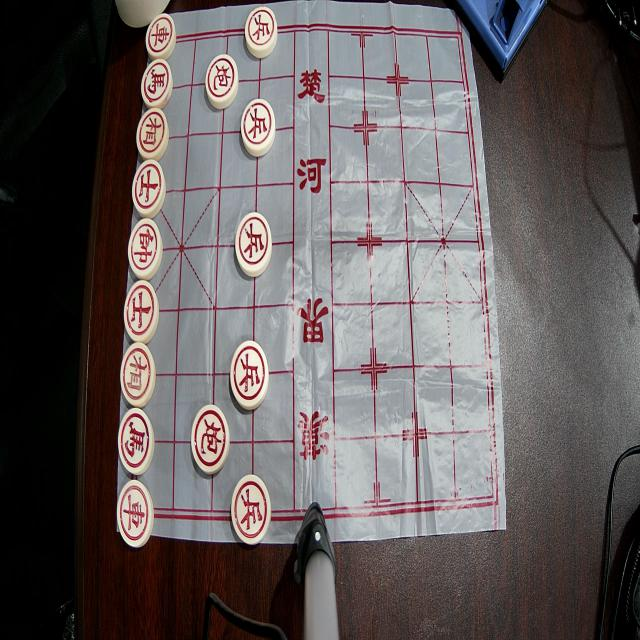red-cannon: (191, 404, 230, 474), (206, 54, 238, 110)
red-chariot: (117, 480, 154, 548), (146, 13, 177, 59)
red-elephant: (120, 342, 156, 408), (136, 108, 168, 159)
red-general: (128, 218, 163, 280)
red-guard: (124, 281, 159, 343), (132, 160, 166, 218)
red-horse: (118, 408, 155, 475), (141, 59, 173, 108)
red-soldier: (232, 475, 272, 545), (230, 340, 269, 410), (235, 212, 272, 277), (241, 98, 276, 156), (245, 7, 277, 58)
